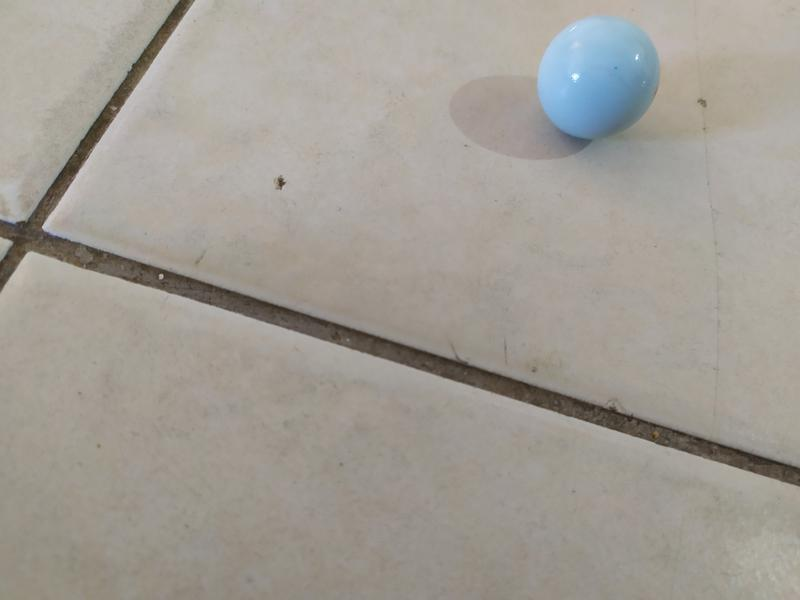Warning: (532, 12, 666, 145)
